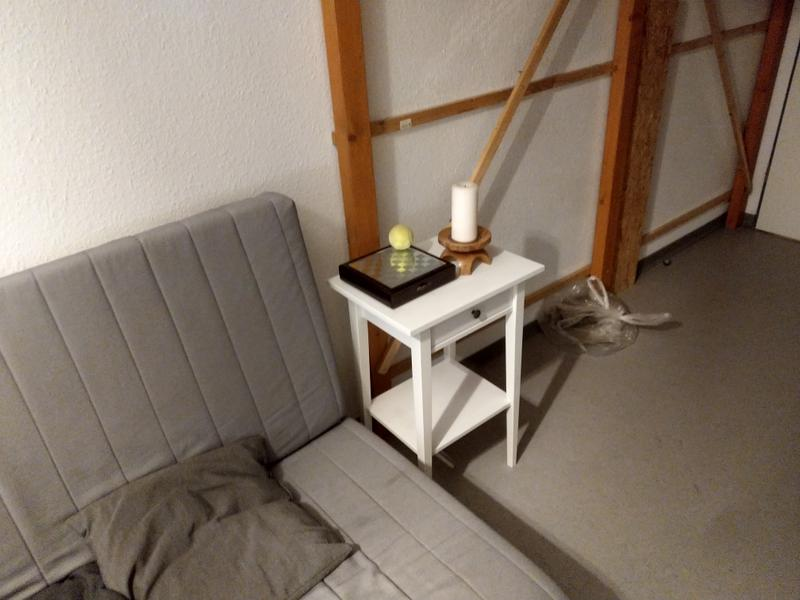Tennisball: (387, 222, 415, 253)
